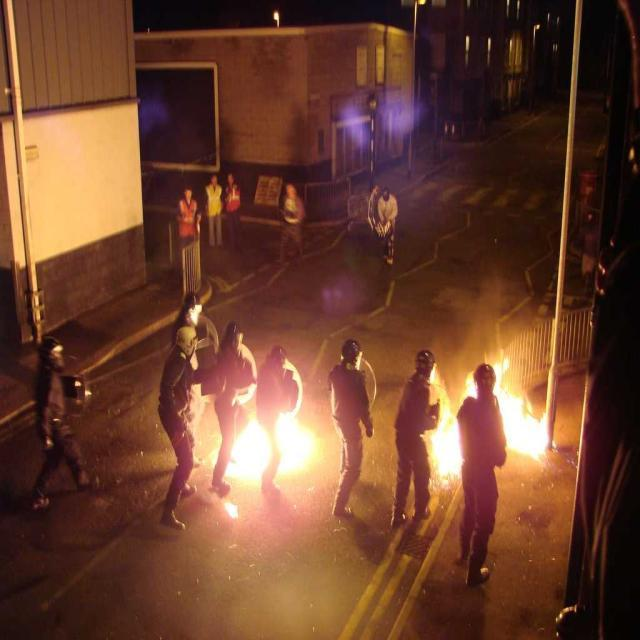Fire: (282, 417, 313, 471), (235, 414, 262, 474), (506, 397, 530, 453), (439, 424, 459, 476)
